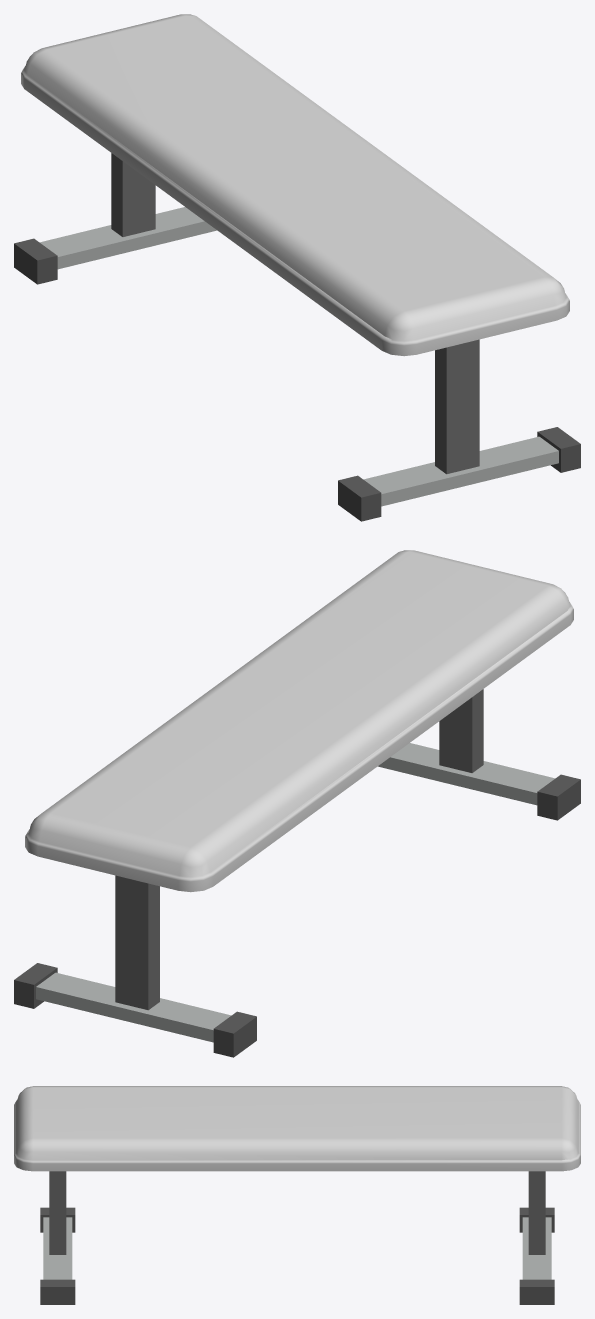
File: Bench 02.fbx
3 renders of one model, top to bottom at view 1: azimuth 30°, elevation 25°; view 2: azimuth 150°, elevation 25°; view 3: azimuth 270°, elevation 25°, orthographic. The views are drawn at different scales.
Parts seen in each view (by area): view 1: Bench_02; view 2: Bench_02; view 3: Bench_02.
Boxes of the visible parts, left/top/right/bottom form: Bench_02: left=14, top=14, right=580, bottom=521; Bench_02: left=14, top=550, right=580, bottom=1057; Bench_02: left=14, top=1086, right=580, bottom=1304.
Bounding box in the file's own units: 2.66 × 2.37 × 8.02.
